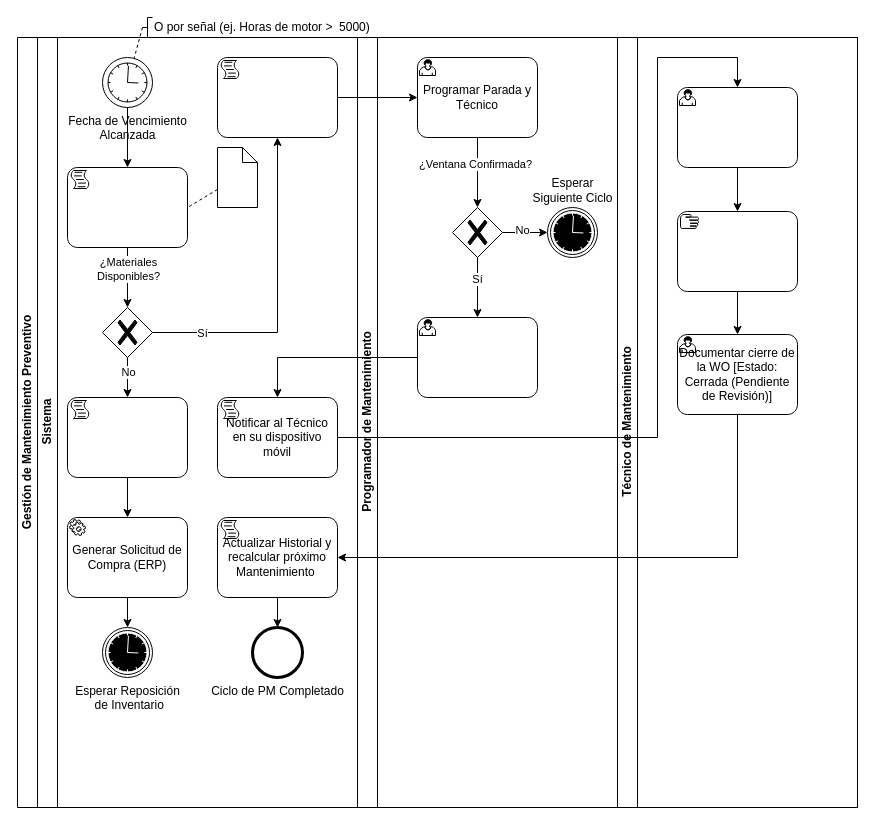
The diagram is 875 pixels wide and 825 high, and some of its shapes have lost their labels. The centre of each missing label's shape, as x and y in pixels:
"Asignar fecha/hora y responsable (Estado de la WO: Programada)" belongs at (477,357).
"Ejecutar Tareas del Checklist (PM)" belongs at (737,251).
"Estado de la WO: En Ejecución" belongs at (737,127).
"Estado de la WO: En Espera de Repuestos" belongs at (127,437).
"Generar WO Preventiva (Estado: Creada)" belongs at (127,207).
"Plan de Mantenimiento y BOM predefinido" belongs at (237,177).
"Reservar Materiales (Estado de la WO: Lista para Programar)" belongs at (277,97).
